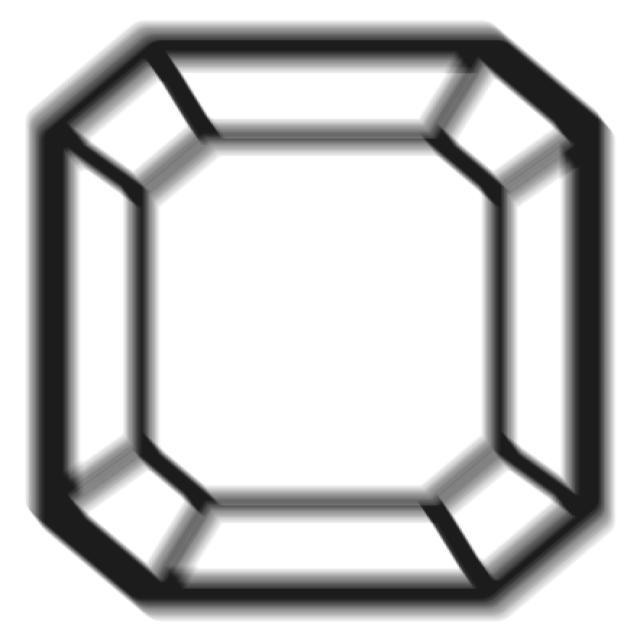emerald: (19, 19, 620, 622)
